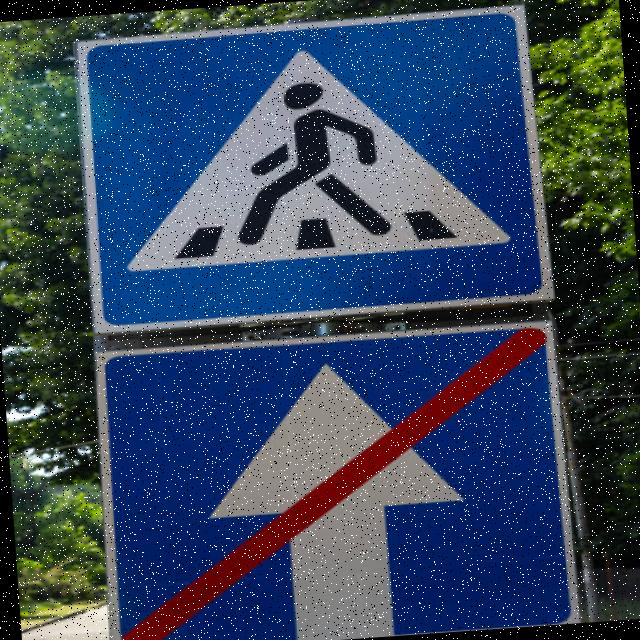crosswalk: (58, 0, 581, 343)
